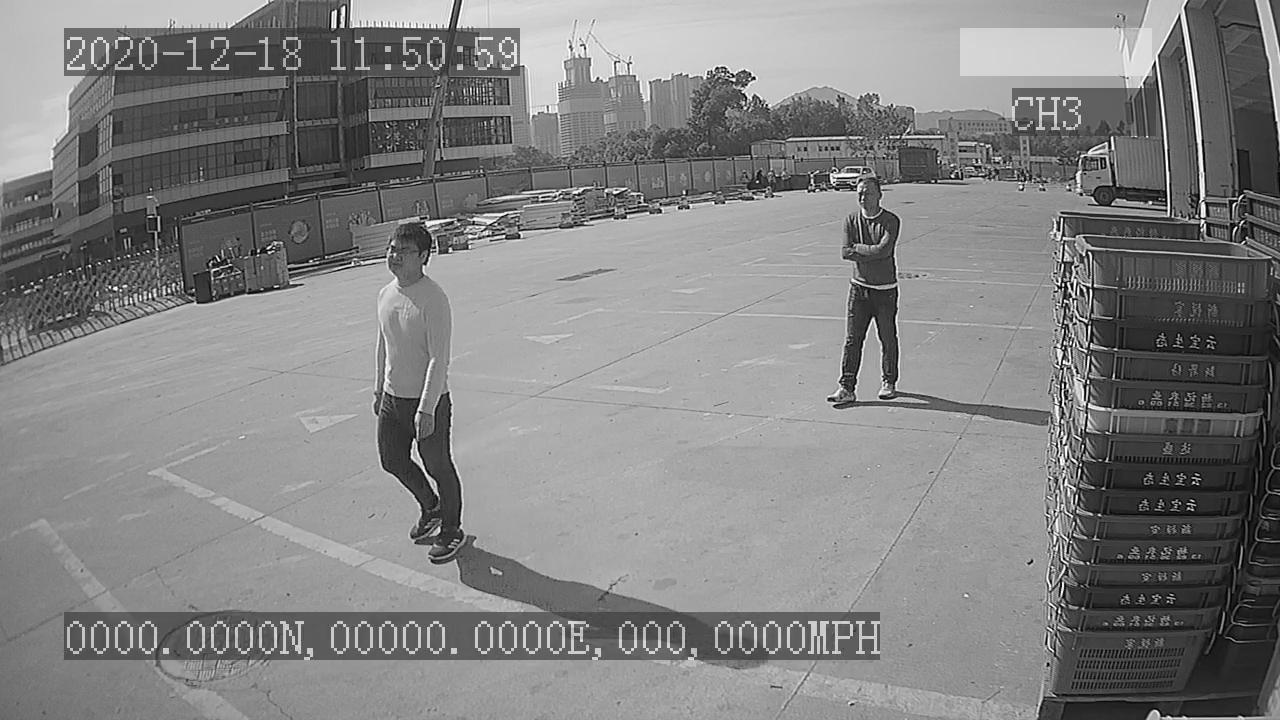person: (358, 219, 474, 572), (818, 174, 909, 410)
